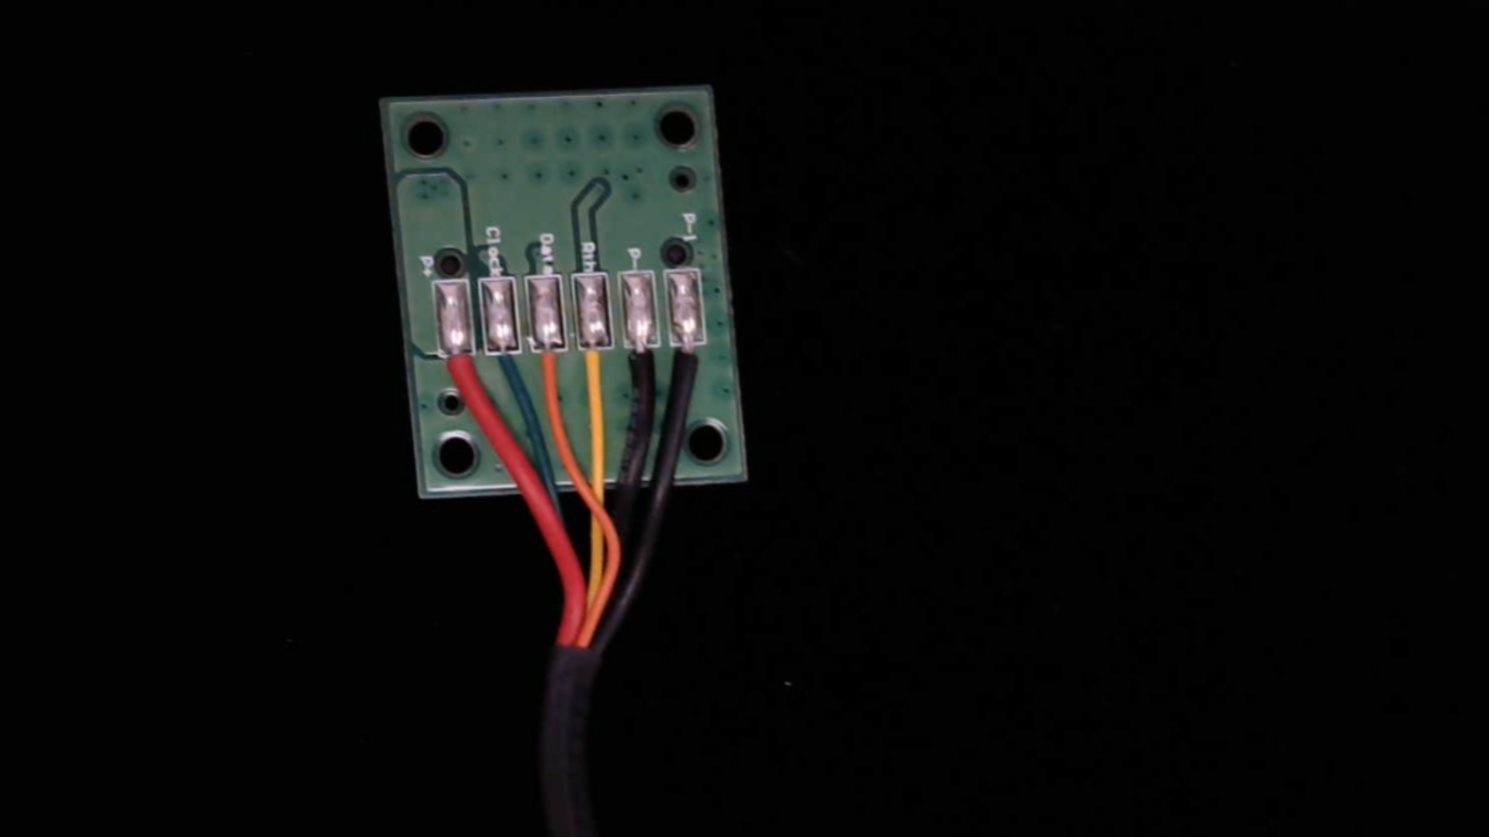Black: (622, 326, 666, 414)
Black1: (669, 326, 711, 407)
Green: (482, 329, 525, 400)
Orange: (530, 328, 572, 415)
Red: (438, 333, 480, 403)
Yellow: (575, 326, 621, 415)
